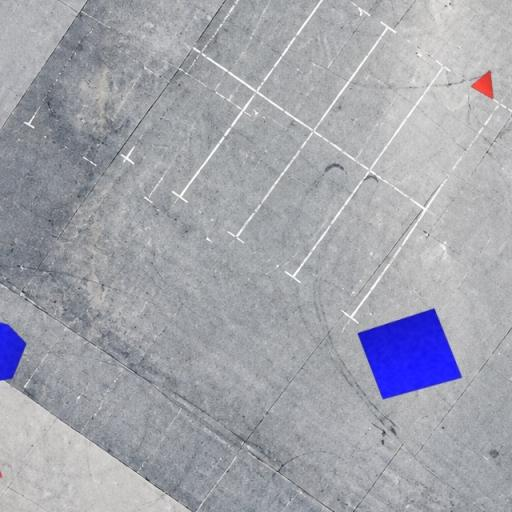BLUE_SQUARE: (357, 307, 463, 400)
